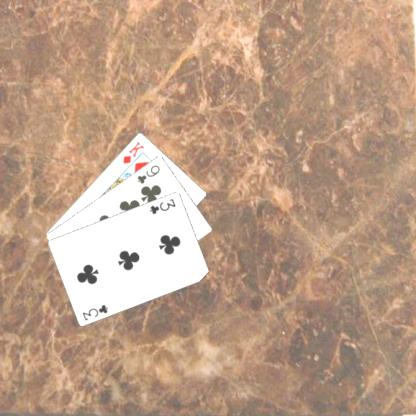3C: (79, 301, 110, 322), (147, 196, 177, 216)
9C: (134, 161, 162, 185)
KD: (120, 139, 145, 165)
